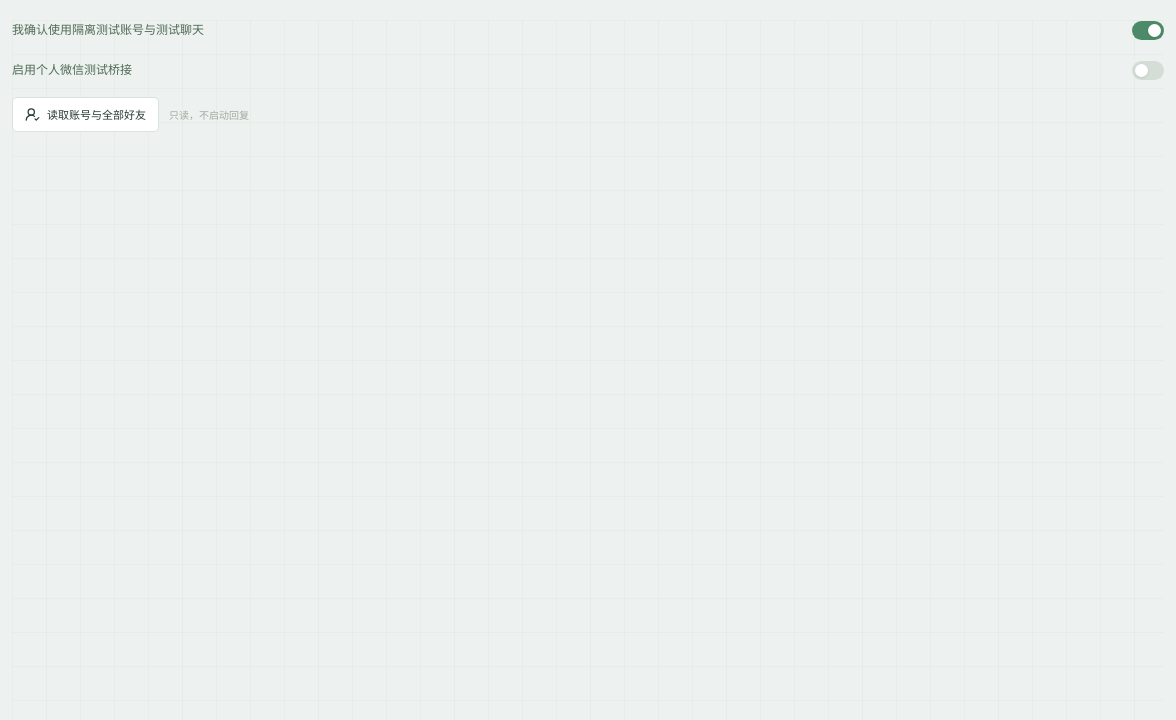
clears the old search on full refresh and keeps an empty result visible
The width and height of the screenshot is (1176, 720).
Click the button "读取账号与全部好友" at (86, 114), box 12,97 -> 159,132
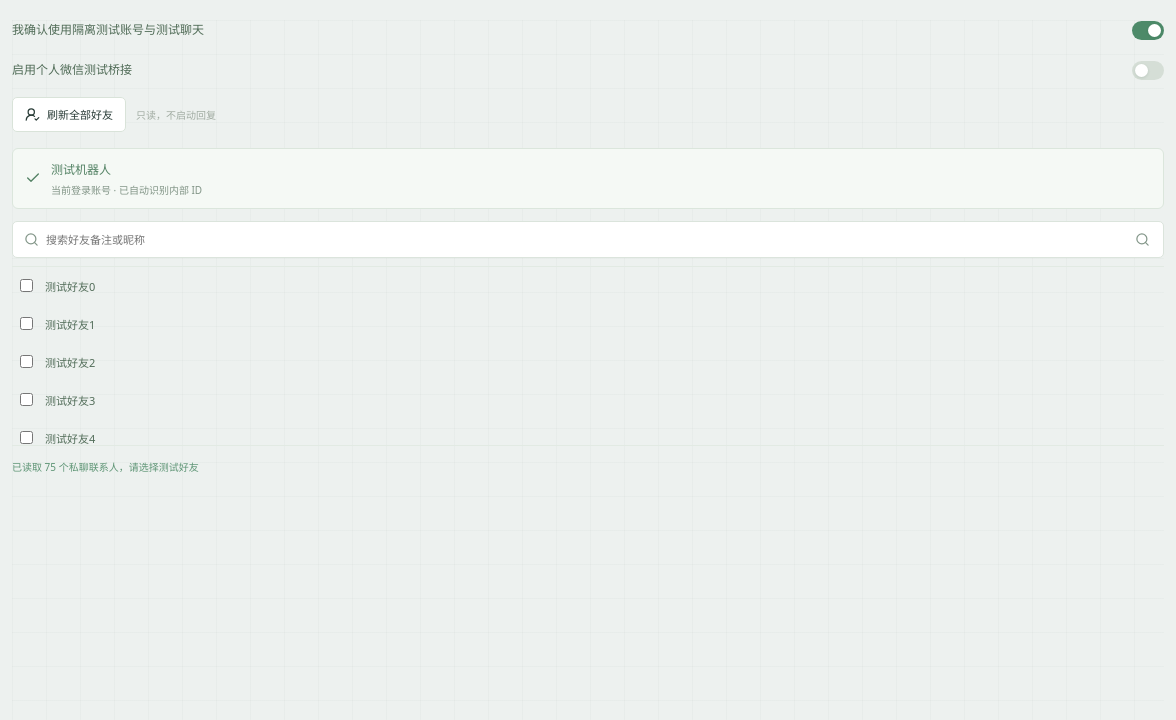
Type "不存在" into the field named "搜索测试好友" at (584, 239), box 46,222 -> 1121,257
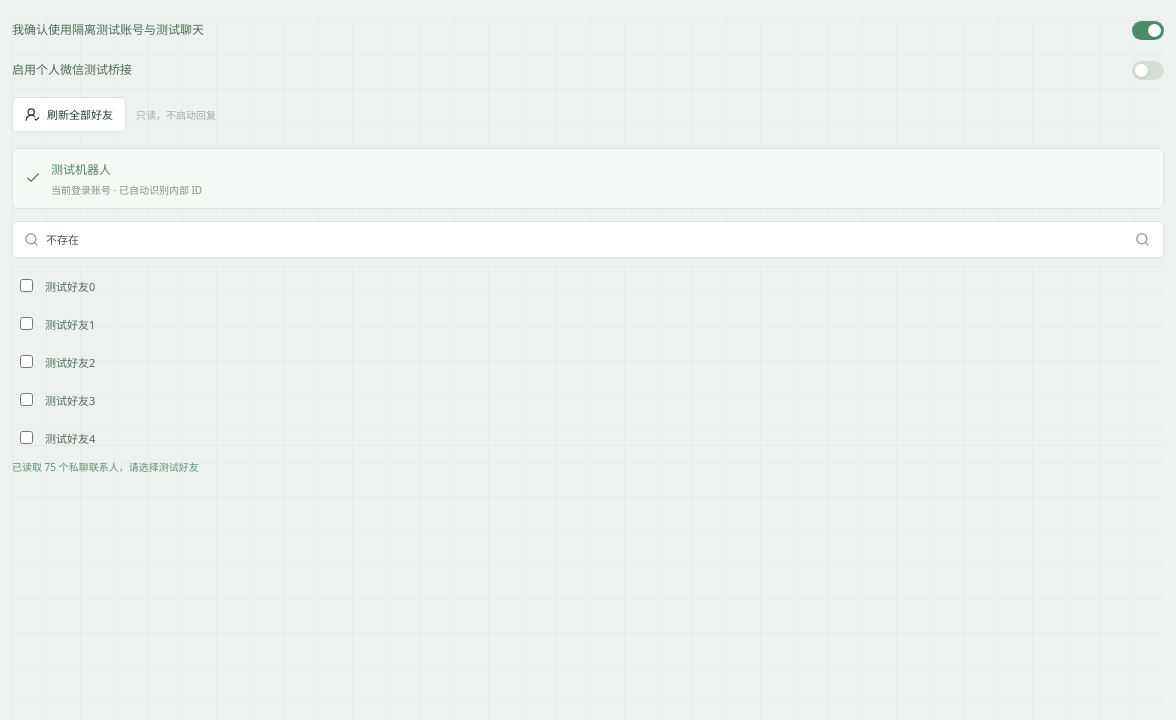
Click the button named "搜索好友" at (1142, 239), box 1128,225 -> 1157,254
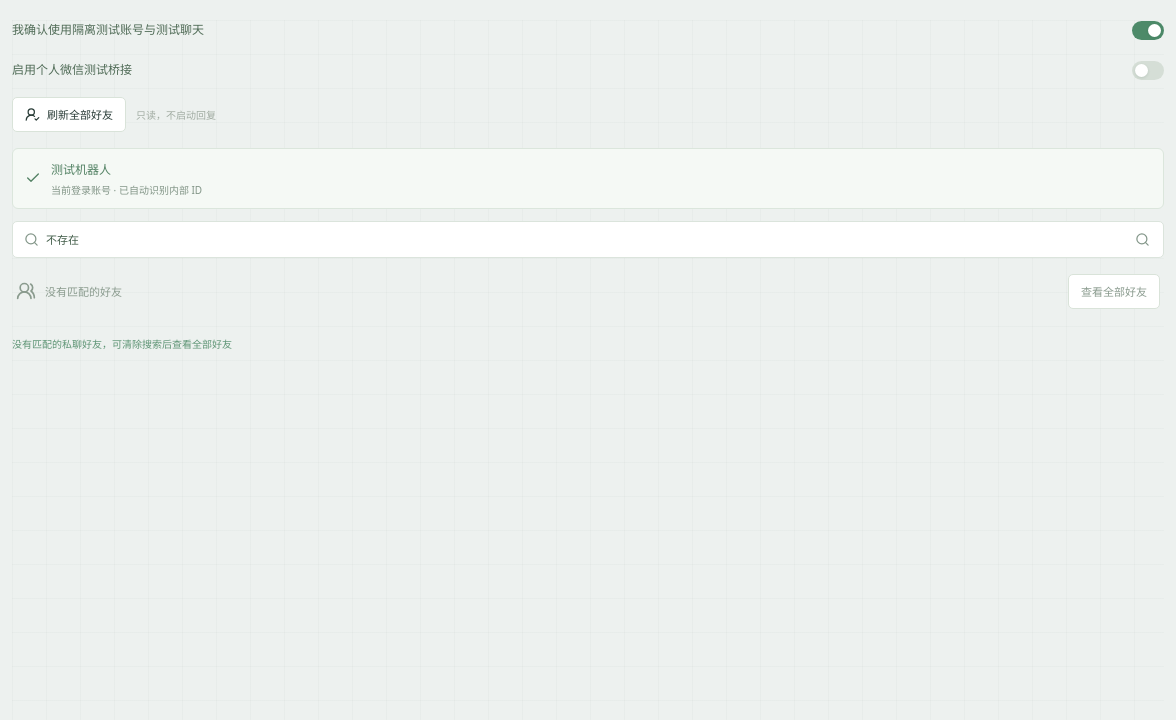
Check: the text "测试机器人" is shown, box 51,161 -> 111,178
Check: the text "没有匹配的好友" is shown, box 45,284 -> 122,299
Click the button "查看全部好友" at (1114, 291), box 1068,274 -> 1160,309
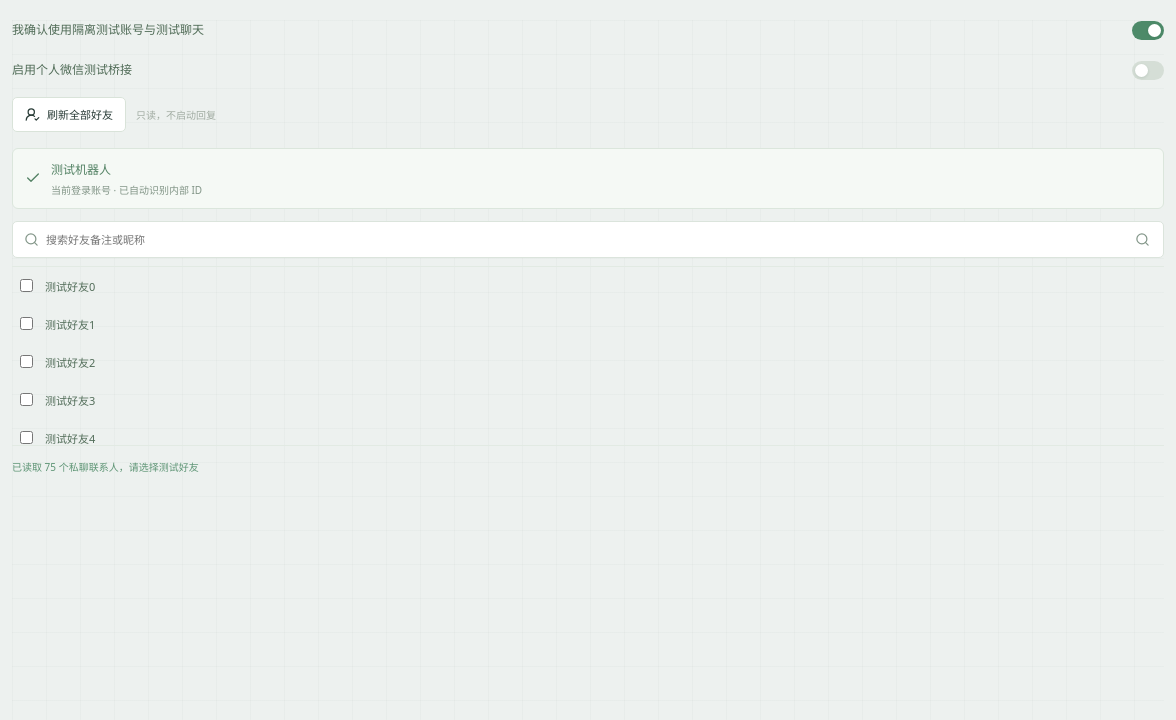
Check: the field named "搜索测试好友" is empty, box 46,222 -> 1121,257
